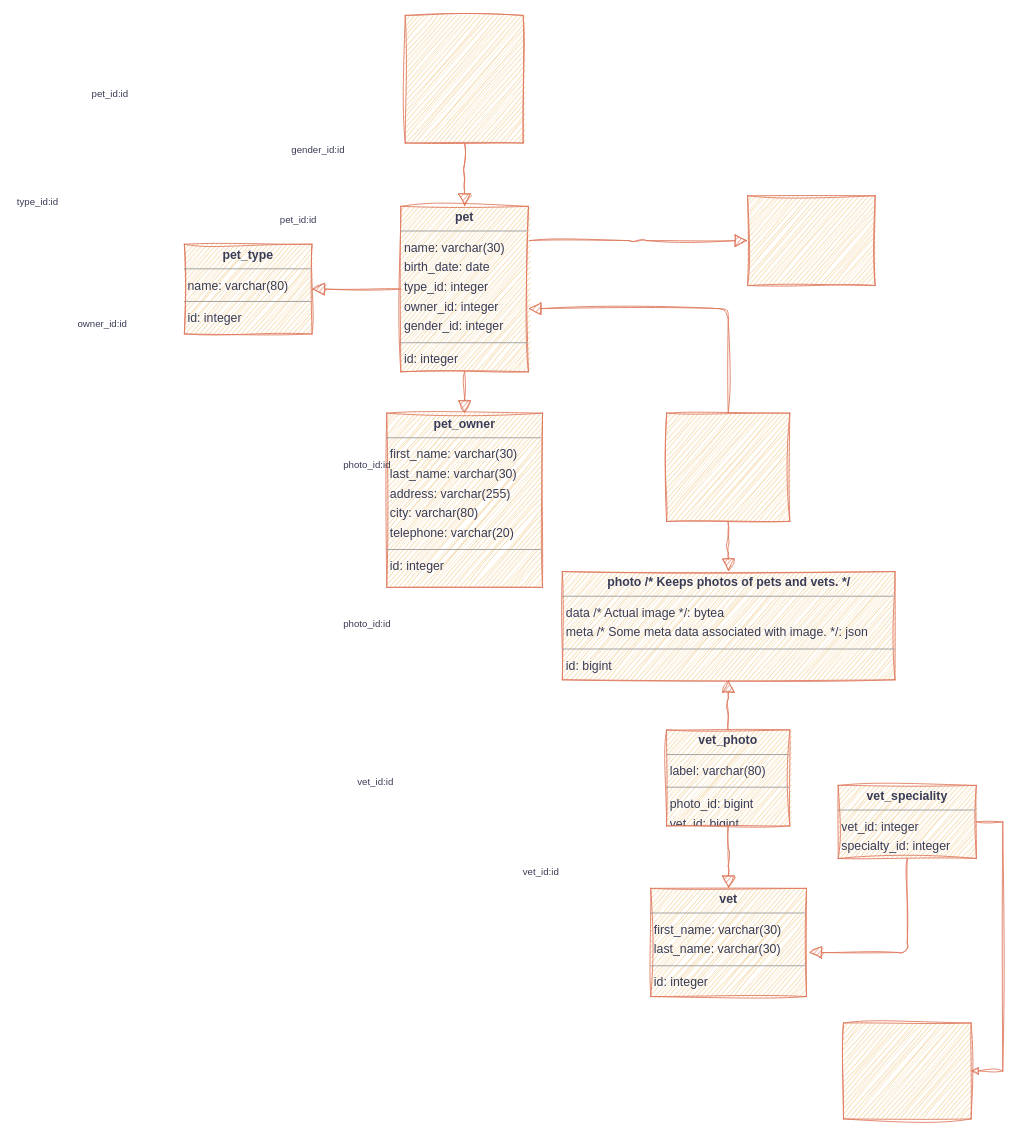
This 1025x1134 diagram has some shape labels left out. Here are the shapes that lost their labels. From the top down, the centre of each, then its label:
At (x=463, y=79): "pet_visit pet_id: integer visit_date: date description: text id: integer".
At (x=811, y=240): "pet_gender name: varchar(60) id: bigint".
At (x=728, y=466): "pet_photo label: varchar(80) photo_id: bigint pet_id: bigint".
At (x=907, y=1070): "speciality name: varchar(80) id: integer".
